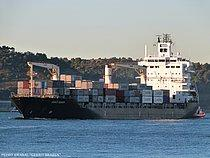Ship: (10, 45, 206, 126)
